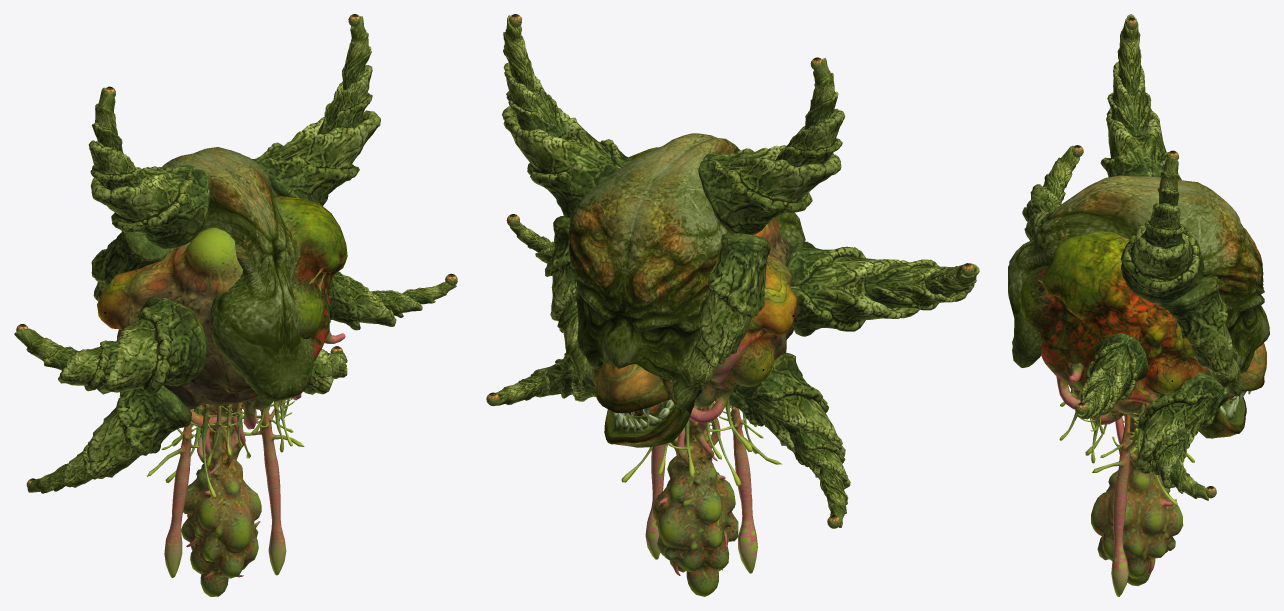
The model's file is super_andross.glb.
The picture shows the model from 3 angles, left to right: view 1: azimuth 30°, elevation 25°; view 2: azimuth 150°, elevation 25°; view 3: azimuth 270°, elevation 25°; orthographic projection. The views are drawn at different scales.
Parts seen in each view (by area): view 1: face01, body, tent_drape01, tent2_01, tent3_01, tent4_01, tent1_01, L_pulse, tent5_01, hangtent_01, hangtent_02, tent2_02 (+12 smaller); view 2: face01, tent_drape01, tent3_01, L_pulse, tent2_01, body, tent4_01, tent1_01, R_pulse, tent2_02, mouth_top, mouth_bot (+12 smaller); view 3: body, face01, tent_drape01, R_pulse, tent4_01, tent6_01, tent3_01, tent5_01, hangtent_01, tent3_02, tent4_02, tent3_03 (+10 smaller).
Boxes of the visible parts, x1,y1,x2,y2 form: face01: (121, 147, 314, 401); body: (97, 196, 347, 429); tent_drape01: (181, 404, 261, 596); tent2_01: (97, 297, 207, 395); tent3_01: (90, 165, 209, 248); tent4_01: (252, 110, 380, 205); tent1_01: (86, 385, 191, 478); L_pulse: (91, 231, 171, 301); tent5_01: (329, 271, 396, 330); hangtent_01: (241, 402, 304, 575); hangtent_02: (147, 409, 199, 577); tent2_02: (58, 340, 136, 391); face01: (569, 133, 805, 382); tent_drape01: (652, 401, 738, 596); tent3_01: (698, 145, 841, 234); L_pulse: (672, 233, 770, 409); tent2_01: (785, 241, 919, 336); body: (629, 147, 797, 423); tent4_01: (502, 106, 632, 217); tent1_01: (729, 352, 845, 456); R_pulse: (545, 216, 591, 380); tent2_02: (864, 259, 974, 310); mouth_top: (595, 362, 669, 416); mouth_bot: (604, 399, 695, 447); body: (1020, 231, 1211, 424); face01: (1008, 175, 1269, 373); tent_drape01: (1091, 414, 1183, 585); R_pulse: (1160, 276, 1242, 396); tent4_01: (1120, 223, 1204, 304); tent6_01: (1135, 372, 1228, 473); tent3_01: (1100, 107, 1181, 180); tent5_01: (1080, 333, 1148, 418); hangtent_01: (1092, 414, 1142, 596); tent3_02: (1107, 60, 1152, 137); tent4_02: (1141, 202, 1184, 248); tent3_03: (1117, 14, 1141, 94).
Size of the model in its own units: 1.76 by 2.02 by 0.9254.
Materials: 5 (4 with a texture image).
